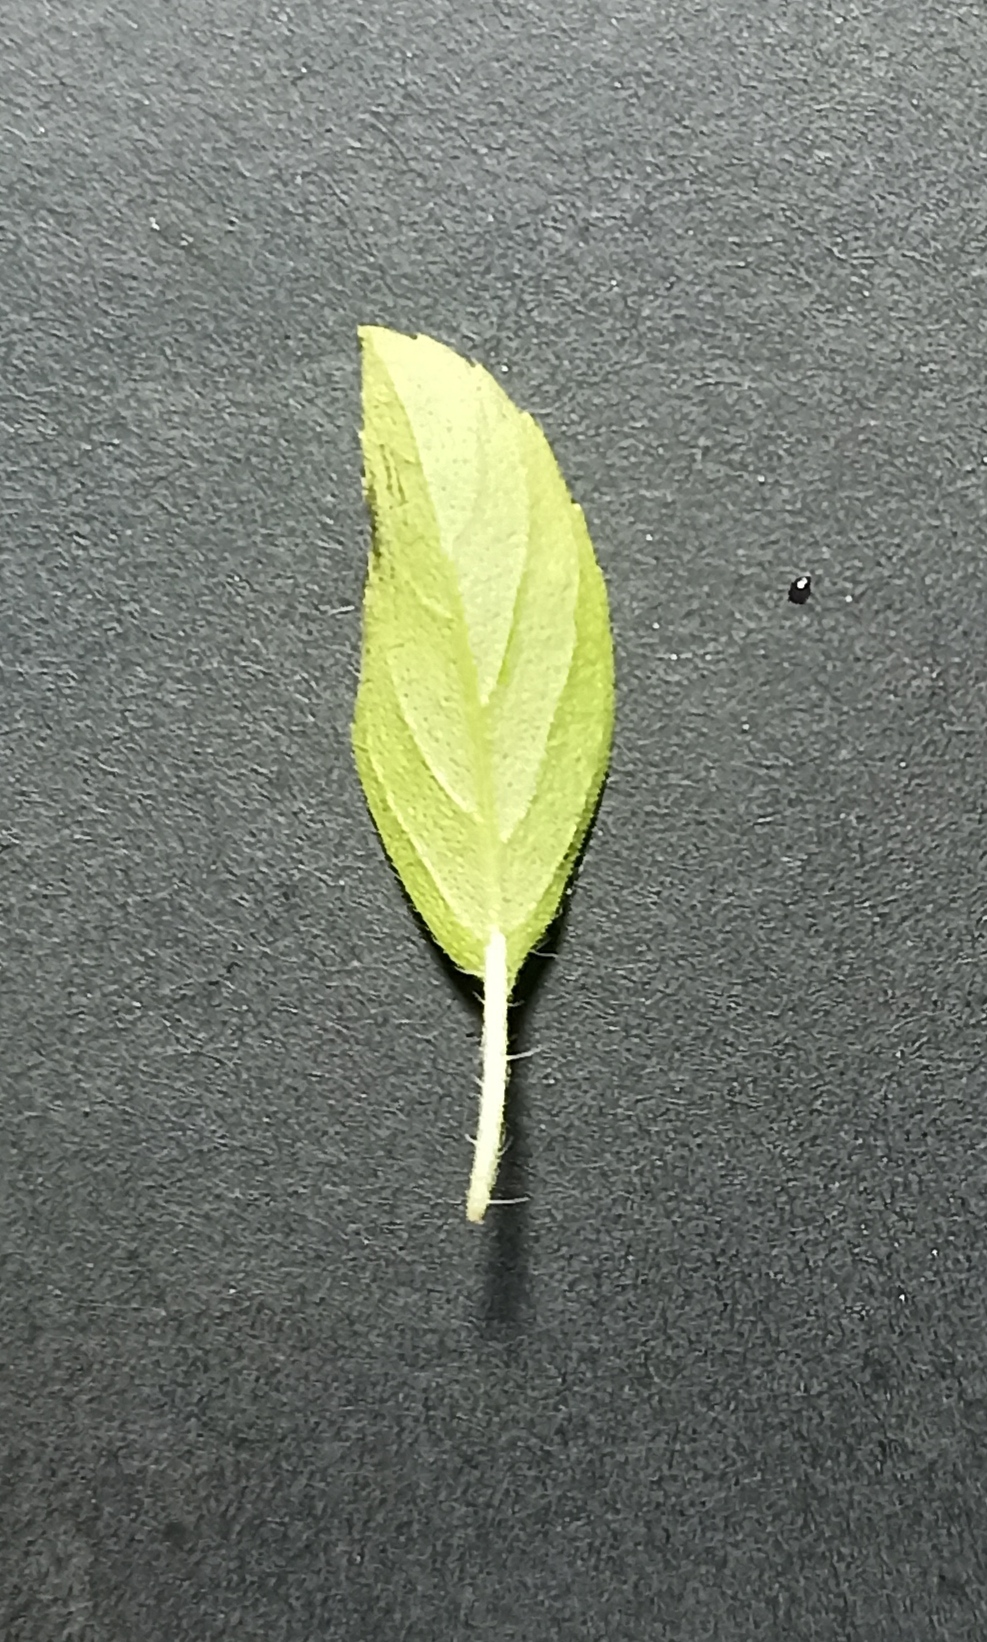Healthy: (329, 312, 627, 979)
